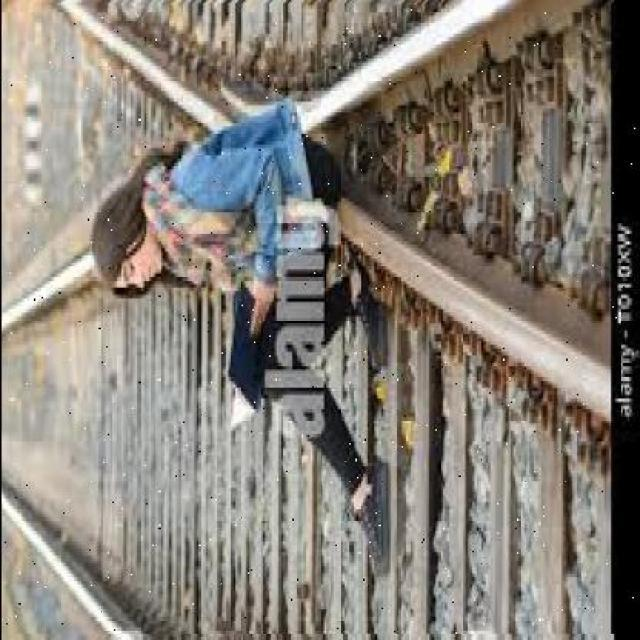danger: (88, 68, 397, 584)
rail: (1, 2, 634, 633)
